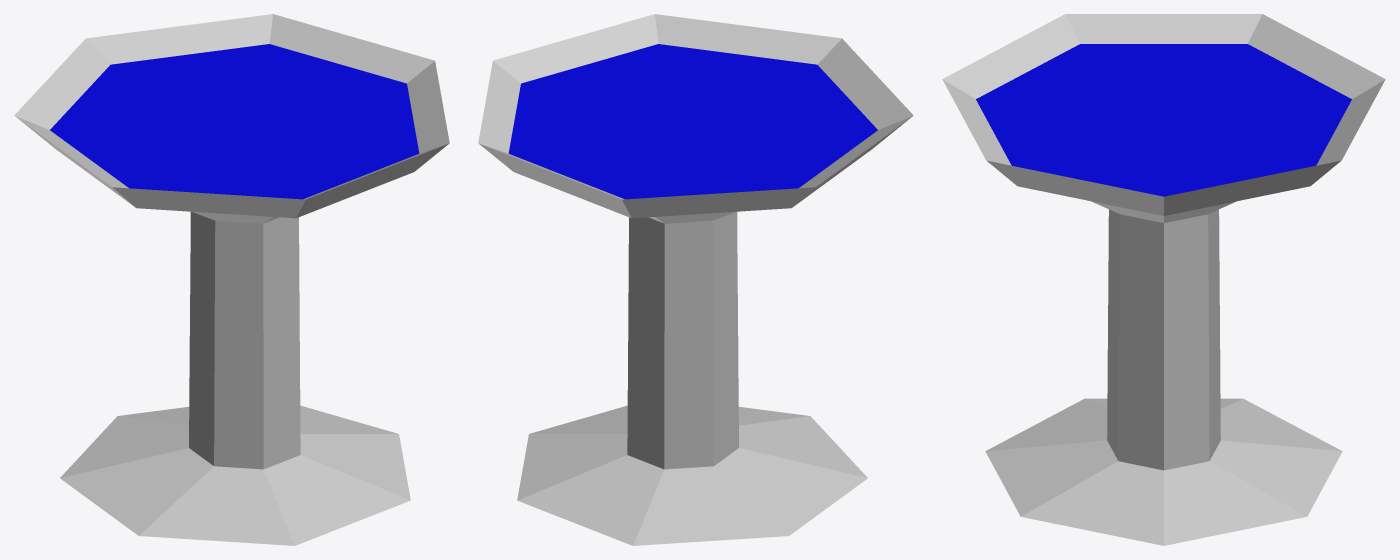
The model's file is DisplayStand.fbx.
3 renders of one model, left to right at view 1: azimuth 30°, elevation 25°; view 2: azimuth 150°, elevation 25°; view 3: azimuth 270°, elevation 25°, orthographic.
Visible parts, largest first — view 1: pCylinder1; view 2: pCylinder1; view 3: pCylinder1.
Part boxes in pixels (x1,y1,x2,y2): pCylinder1: [14, 14, 449, 545]; pCylinder1: [478, 14, 913, 545]; pCylinder1: [942, 14, 1385, 545].
Size of the model in its own units: 1.66 by 1.56 by 1.71.
